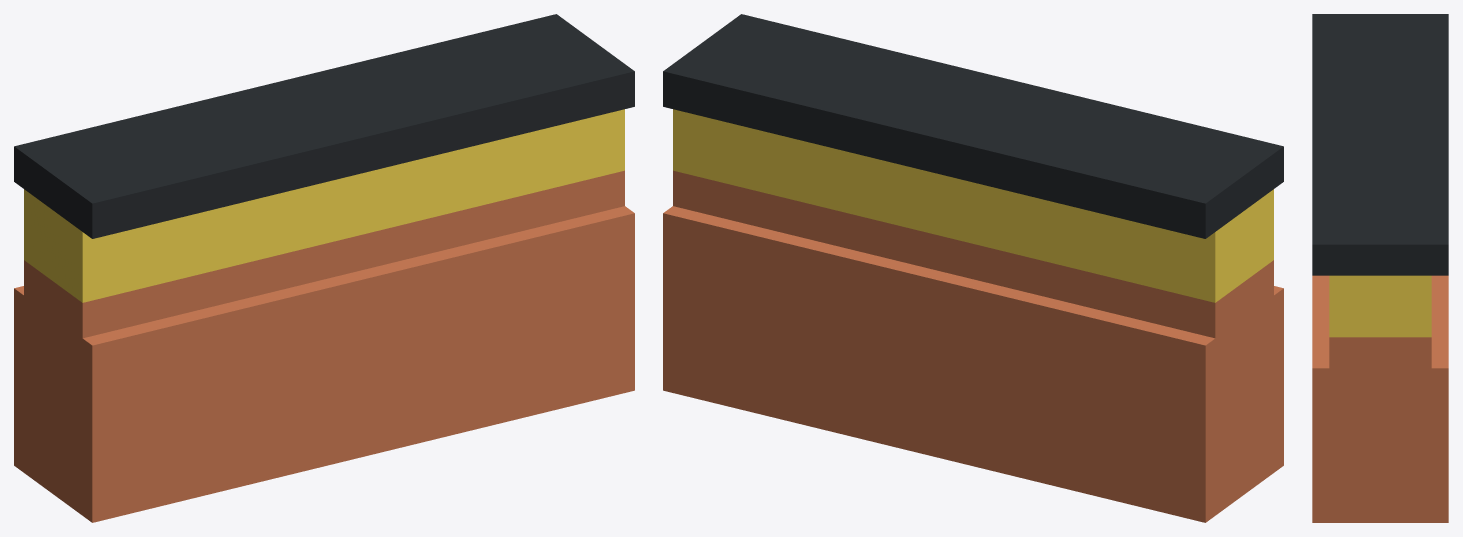
The model's file is wallmid.glb.
3 views of the same model, side by side, from view 1: azimuth 30°, elevation 25°; view 2: azimuth 150°, elevation 25°; view 3: azimuth 270°, elevation 25° (orthographic). The views are drawn at different scales.
Parts seen in each view (by area): view 1: generated(Clone); view 2: generated(Clone); view 3: generated(Clone).
Boxes of the visible parts, box(x1,y1,x2,y2) form: generated(Clone): box(14, 14, 634, 522); generated(Clone): box(663, 14, 1283, 522); generated(Clone): box(1312, 14, 1448, 522).
Bounding box in the file's own units: 16 × 9 × 4.
